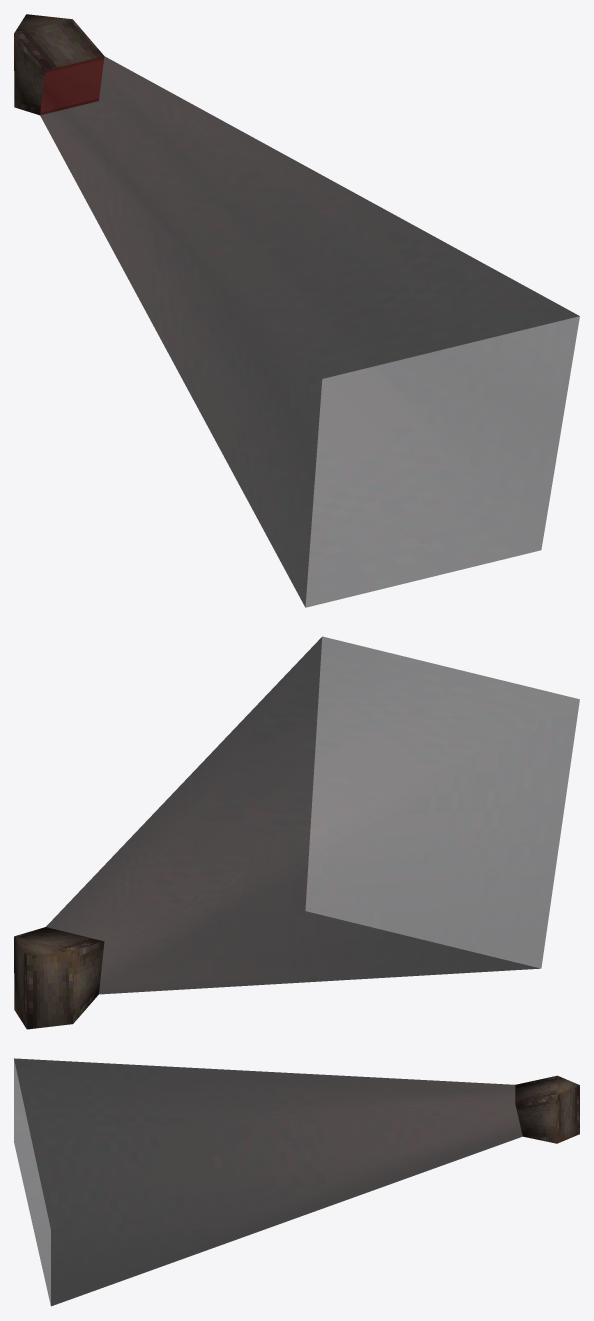
3 renders of one model, top to bottom at view 1: azimuth 30°, elevation 25°; view 2: azimuth 150°, elevation 25°; view 3: azimuth 270°, elevation 25°, orthographic. The views are drawn at different scales.
Visible parts, largest first — view 1: Slim_obj_060; view 2: Slim_obj_060; view 3: Slim_obj_060.
Part boxes in pixels (left/top/right/bottom): Slim_obj_060: left=14, top=14, right=579, bottom=607; Slim_obj_060: left=14, top=636, right=579, bottom=1029; Slim_obj_060: left=14, top=1058, right=579, bottom=1306.
Size of the model in its own units: 0.8809 by 0.8965 by 2.51.
3 materials, 3 textured.
